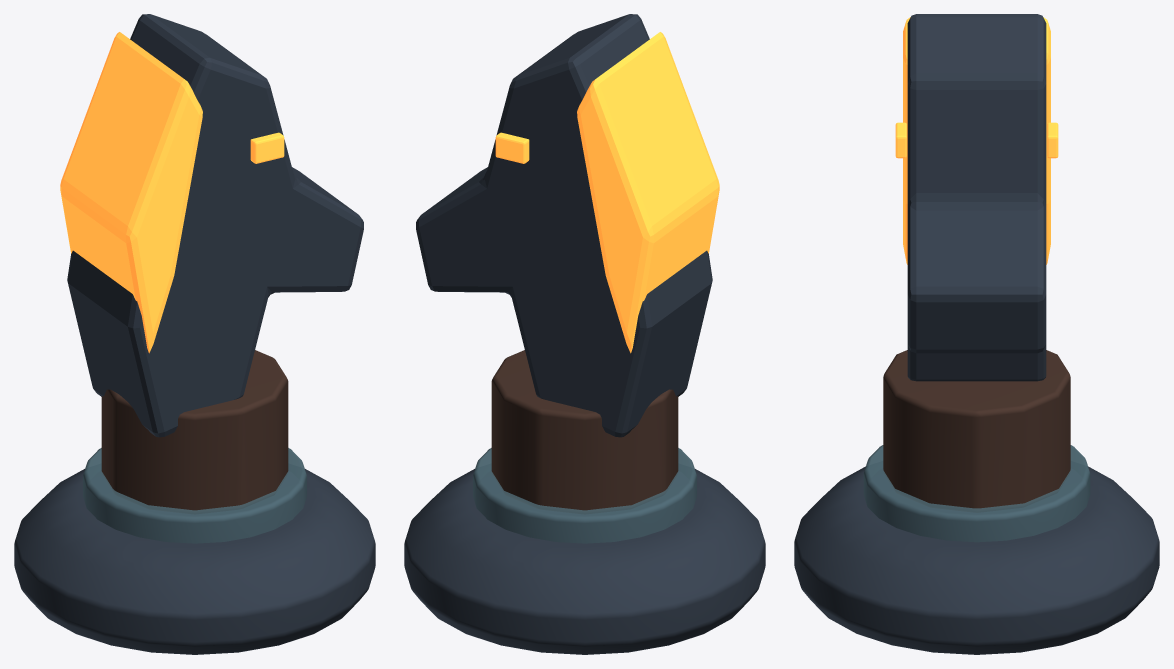
3 views of the same model, side by side, from view 1: azimuth 30°, elevation 25°; view 2: azimuth 150°, elevation 25°; view 3: azimuth 270°, elevation 25° (orthographic).
Visible parts, largest first — view 1: SciFi_n_b; view 2: SciFi_n_b; view 3: SciFi_n_b.
Part boxes in pixels (bbox=[...]): SciFi_n_b: bbox=[14, 14, 375, 654]; SciFi_n_b: bbox=[404, 14, 765, 654]; SciFi_n_b: bbox=[794, 14, 1159, 654].
Size of the model in its own units: 0.58 by 0.98 by 0.58.
